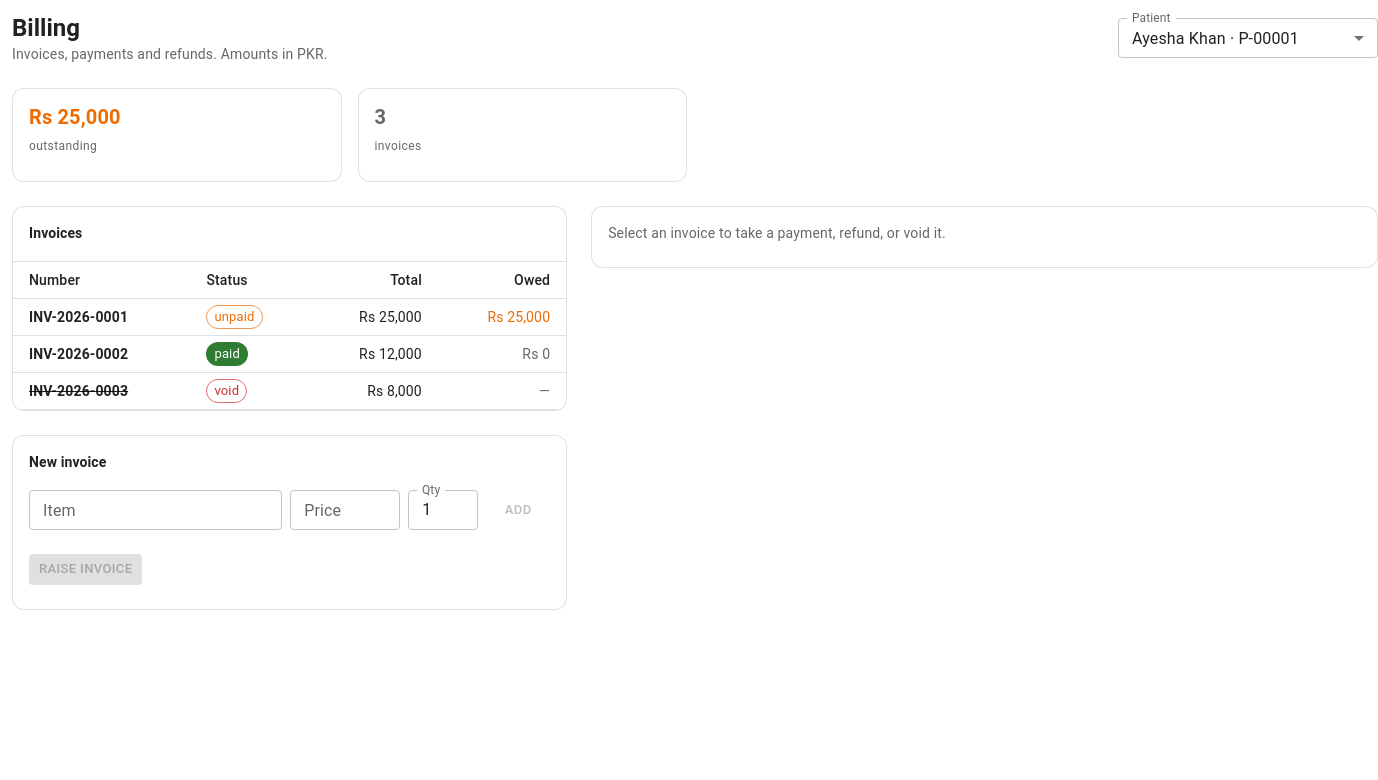
Scenario: taking a payment › refuses a typed zero and sends nothing at all
Click the text "INV-2026-0001" at [102, 317], box [13,298,190,336]
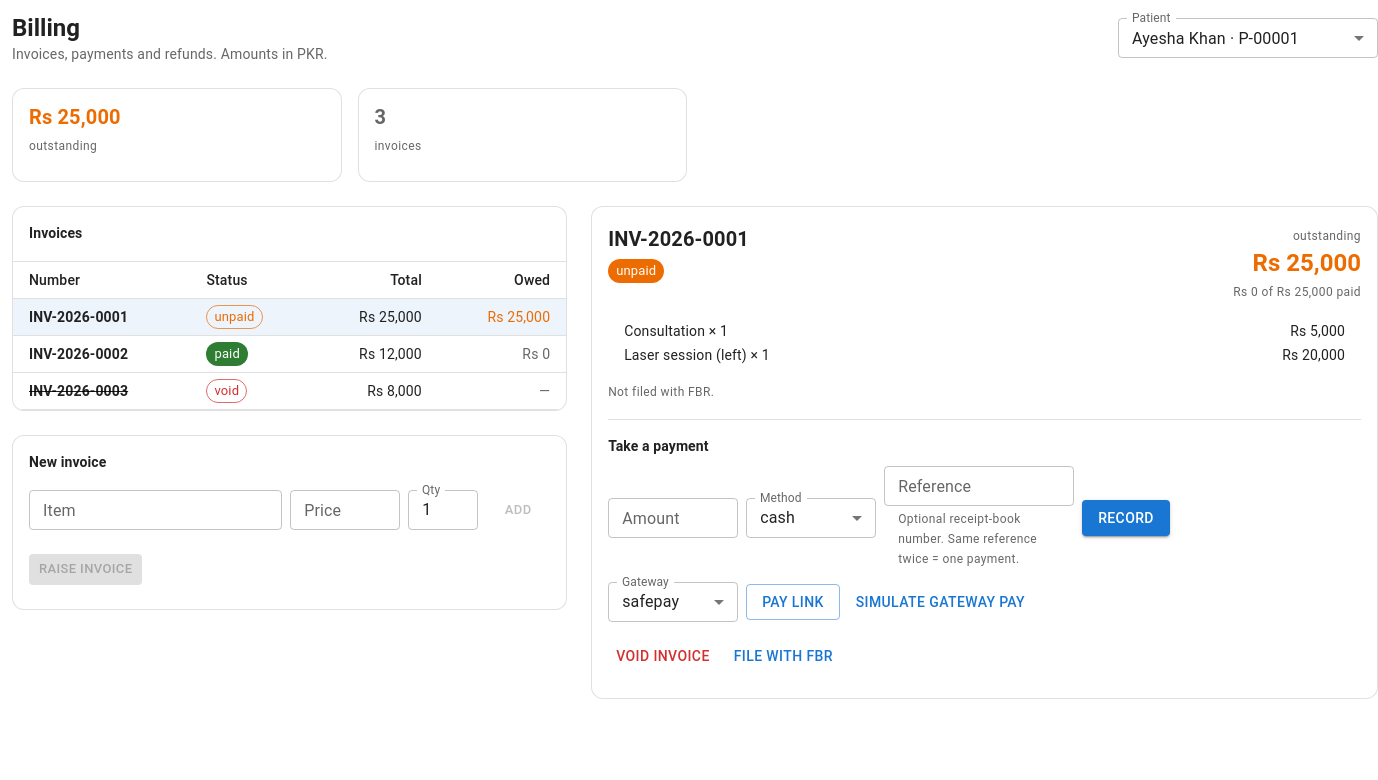
Now the heading "INV-2026-0001" is shown, box [608,223,749,255]
Type "0" into the field labelled "Amount" at [673, 518], box [608,498,738,538]
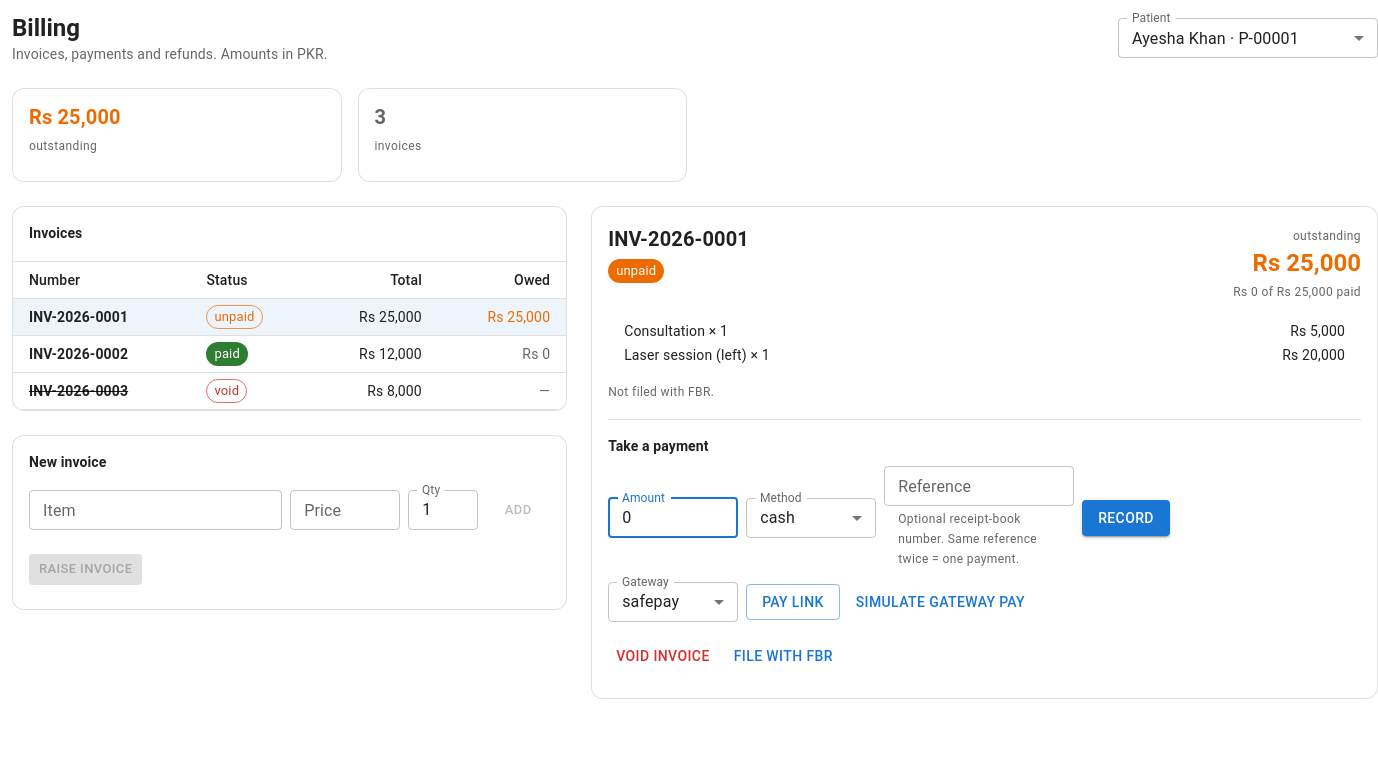
Click the button "Record" at [1126, 518], box [1082,500,1170,536]
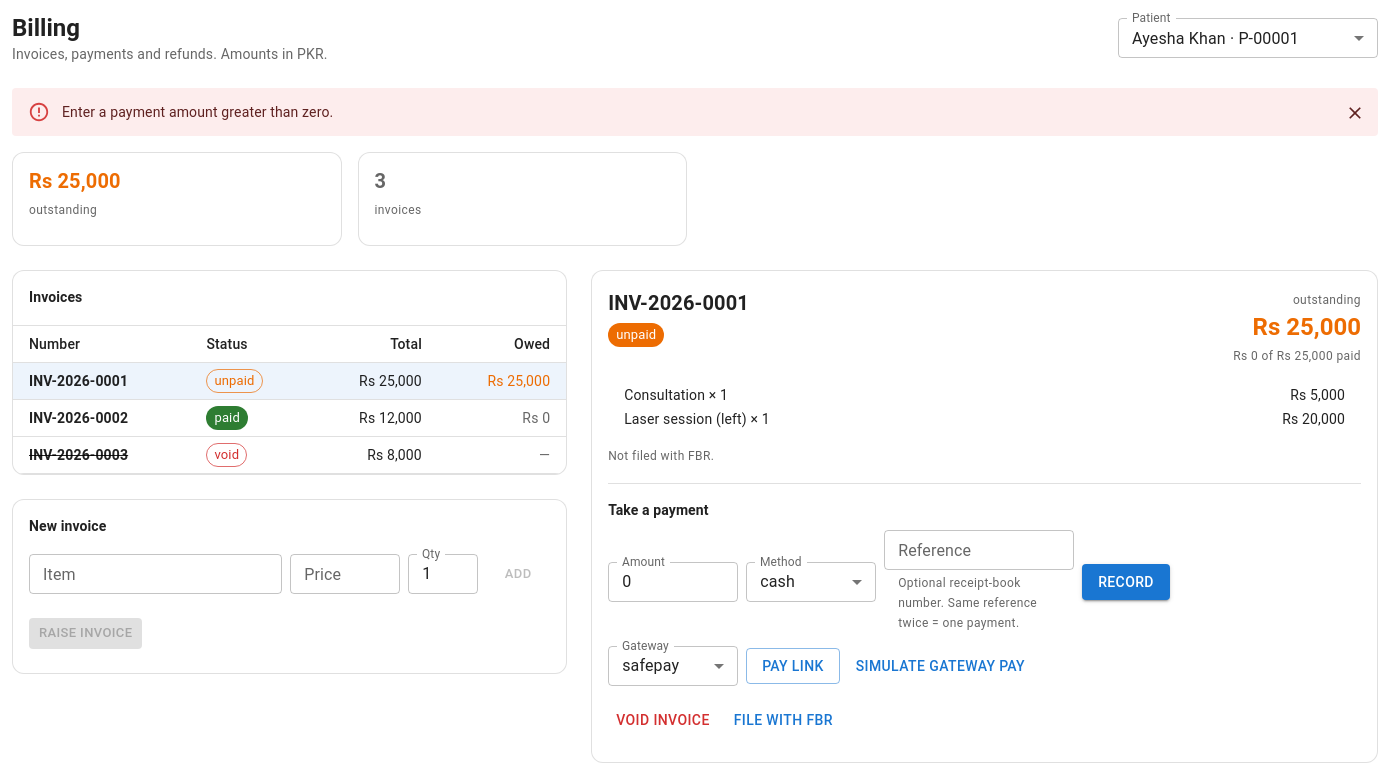
Now the text "Enter a payment amount greater than zero." is shown, box [62,104,333,120]
